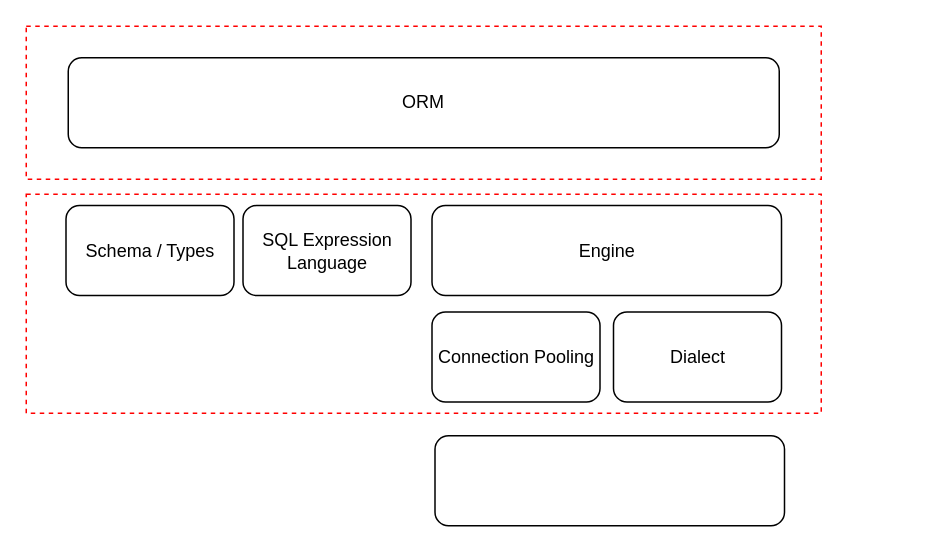
The diagram is 935 pixels wide and 552 high, and some of its shapes have lost their labels. The shapes that lost their labels are listed below. From the top down, each one's box as (x1, y1, x2, y2) in pixels, then its label:
(25, 25, 821, 179): SQA ORM
(25, 193, 821, 413): SQA Core
(434, 434, 784, 526): DBAPI
